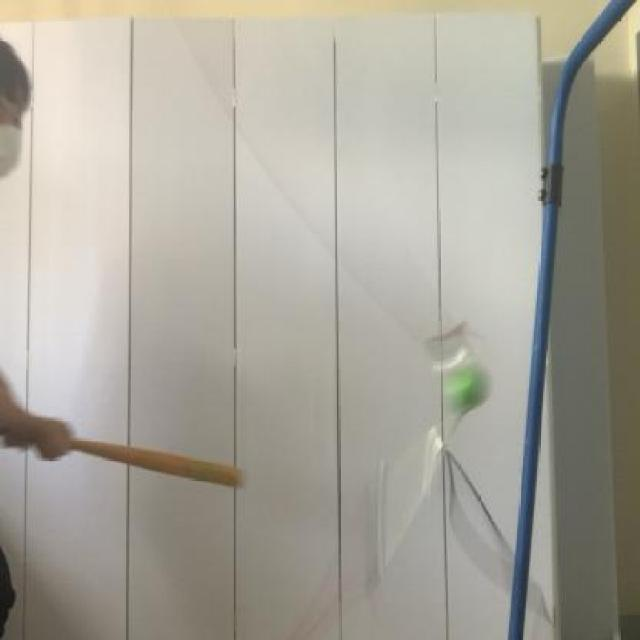baseball: (426, 340, 492, 422)
